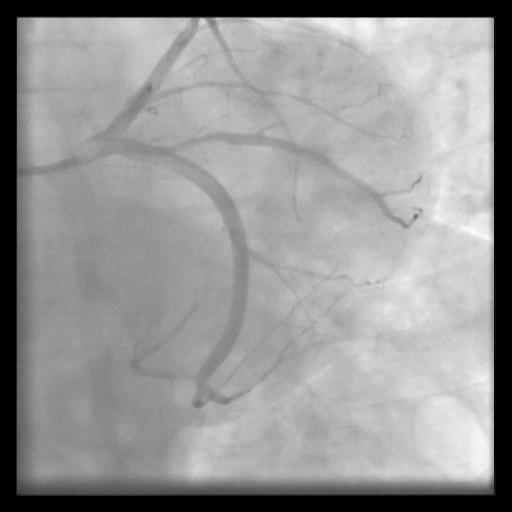Stenosis: (172, 130, 216, 150)
